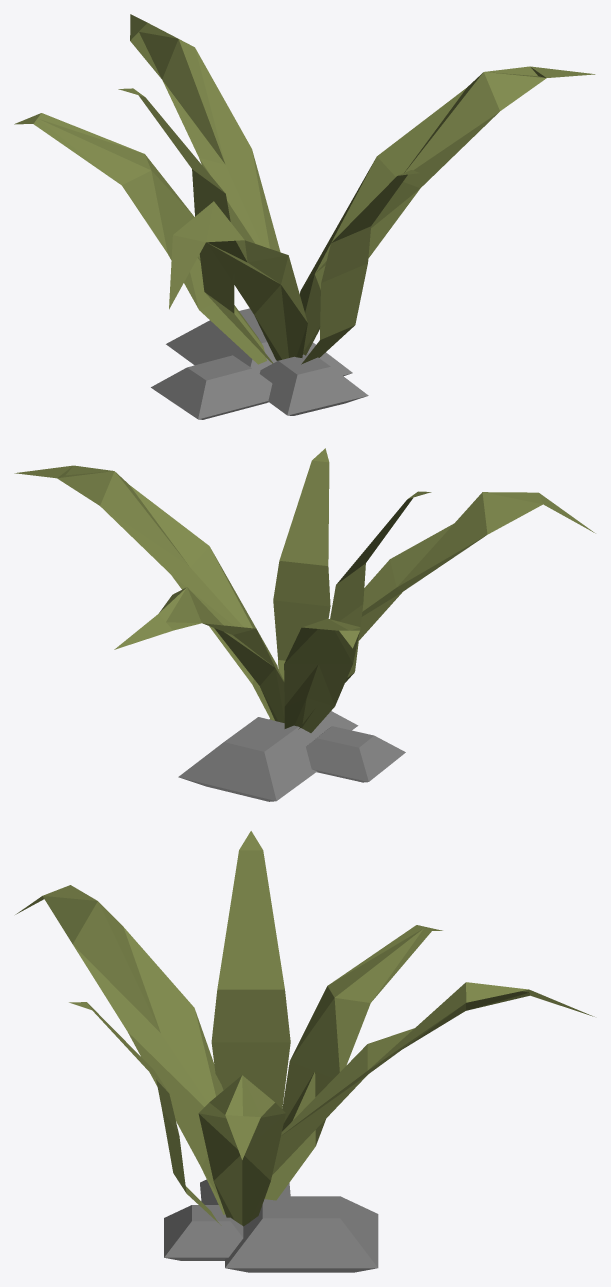
The model's file is rumput laut.dae.
The picture shows the model from 3 angles, top to bottom: view 1: azimuth 30°, elevation 25°; view 2: azimuth 150°, elevation 25°; view 3: azimuth 270°, elevation 25°; orthographic projection. The views are drawn at different scales.
Parts seen in each view (by area): view 1: Plane, Plane.001, Plane.002, Plane.005, Plane.004, Cube.002, Cube, Plane.003, Cube.001; view 2: Plane, Plane.004, Cube.001, Plane.002, Plane.005, Plane.001, Cube.002, Plane.003, Cube; view 3: Plane.002, Plane.003, Plane.005, Cube.001, Plane, Plane.001, Cube, Plane.004.
Boxes of the visible parts, <box> form: Plane: <box>300,66,595,355</box>; Plane.001: <box>130,14,280,252</box>; Plane.002: <box>169,201,307,360</box>; Plane.005: <box>14,113,266,364</box>; Plane.004: <box>301,170,419,364</box>; Cube.002: <box>151,355,272,419</box>; Cube: <box>259,353,368,415</box>; Plane.003: <box>118,88,272,363</box>; Cube.001: <box>166,308,352,376</box>; Plane: <box>14,465,277,720</box>; Plane.004: <box>273,448,330,680</box>; Cube.001: <box>178,717,317,801</box>; Plane.002: <box>357,492,595,641</box>; Plane.005: <box>284,618,360,732</box>; Plane.001: <box>114,587,284,722</box>; Cube.002: <box>306,726,405,782</box>; Plane.003: <box>298,491,431,729</box>; Cube: <box>269,711,358,736</box>; Plane.002: <box>15,885,224,1214</box>; Plane.003: <box>211,831,290,1108</box>; Plane.005: <box>264,925,442,1200</box>; Cube.001: <box>225,1196,378,1272</box>; Plane: <box>198,1075,285,1226</box>; Plane.001: <box>249,982,594,1222</box>; Cube: <box>164,1205,243,1260</box>; Plane.004: <box>69,1002,221,1225</box>.
Bounding box in the file's own units: 11.72 × 10.91 × 7.08.
